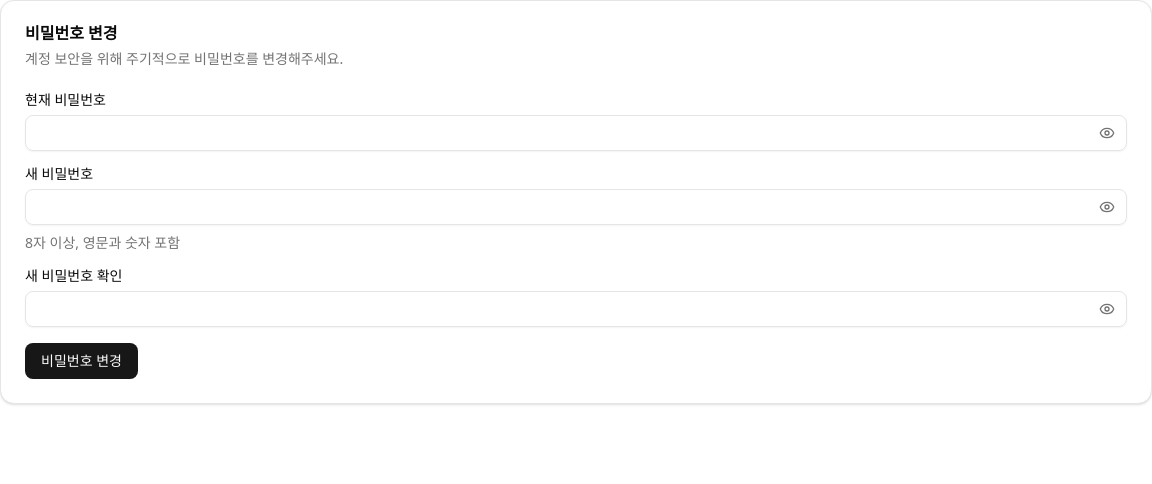
PasswordChangeSection › 서버 에러 처리 › 서버 에러 응답 시 에러 메시지가 표시된다
The width and height of the screenshot is (1152, 484).
Type "wrongPass123" into the password field labelled "현재 비밀번호" at (576, 133), box x1=25 y1=115 x2=1127 y2=151
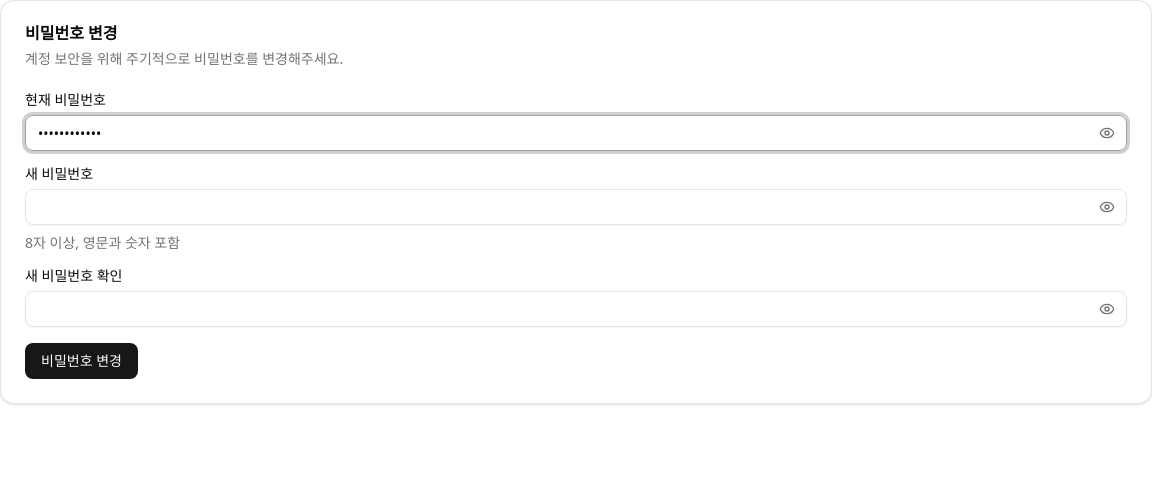
Type "newPass123" into the password field labelled "새 비밀번호" at (576, 207), box x1=25 y1=189 x2=1127 y2=225
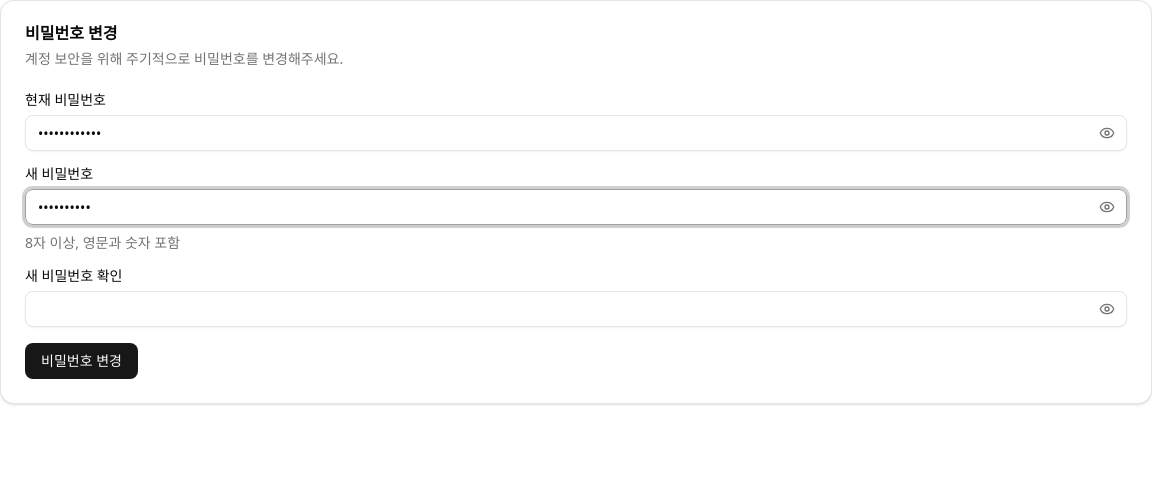
Type "newPass123" into the password field labelled "새 비밀번호 확인" at (576, 309), box x1=25 y1=291 x2=1127 y2=327
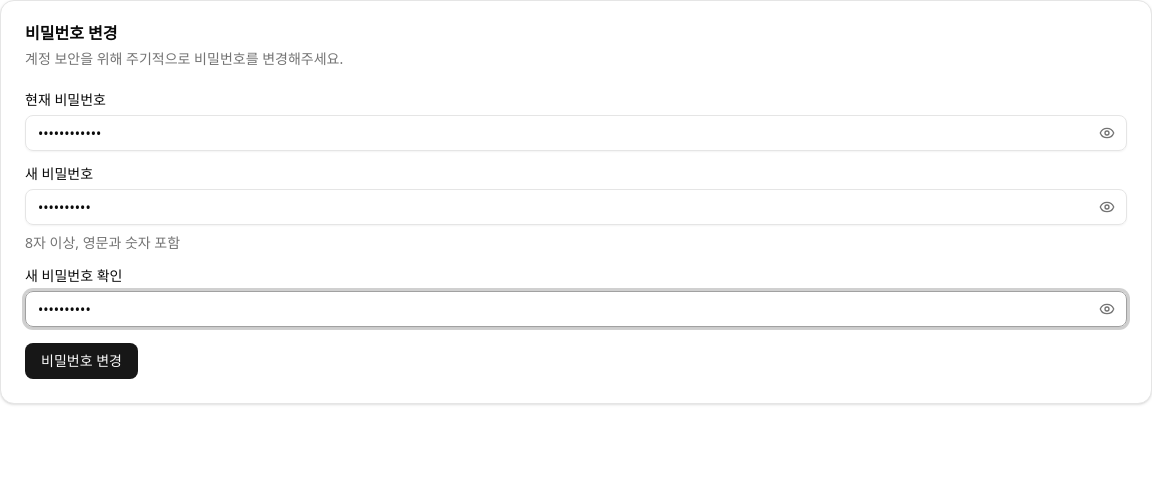
Click the button "비밀번호 변경" at (81, 361), box x1=25 y1=343 x2=138 y2=379
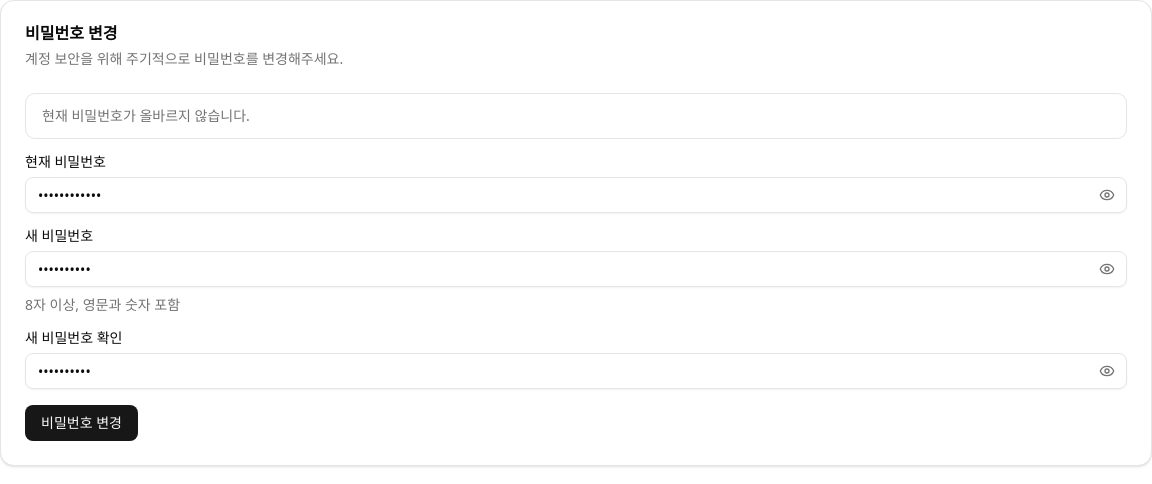
expect the text "현재 비밀번호가 올바르지 않습니다." is shown: met, box x1=42 y1=106 x2=250 y2=125
